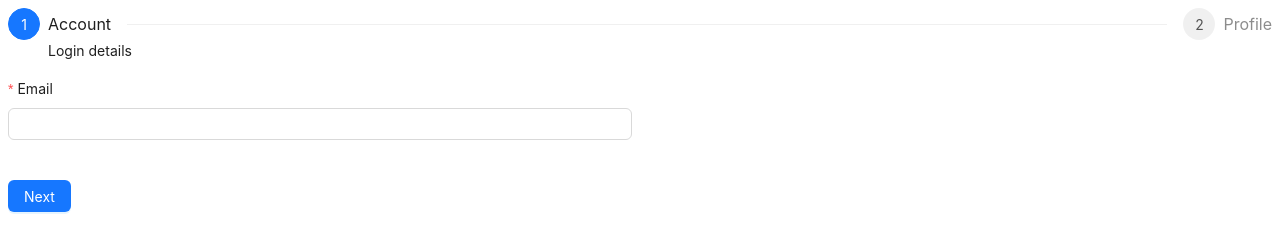
Test: FormRenderer steps wizard › advances to the next step once the current step is valid
In the field labelled "Email": (320, 124) [8,108,632,140], type "ada@example.com"
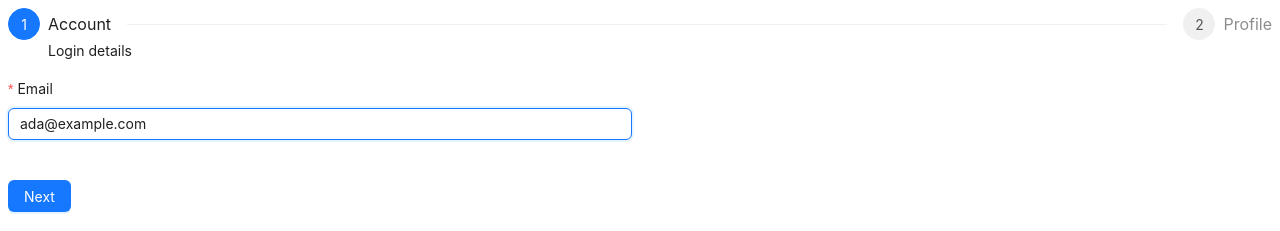
Click the button "Next": (39, 196) [8,180,71,212]
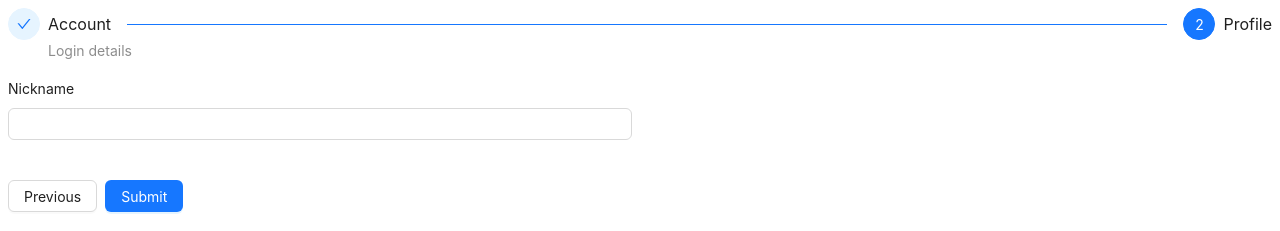
Expected: the field labelled "Nickname" is shown, [8,108,632,140]
Expected: the label labelled "Email" is gone
